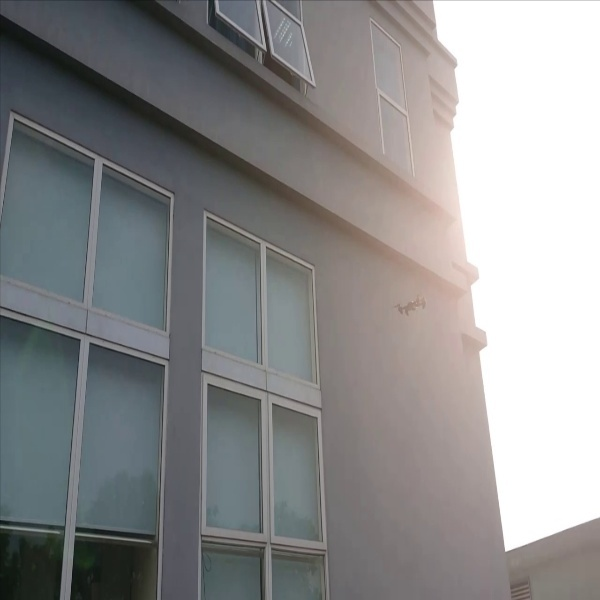drone: (392, 285, 433, 320)
